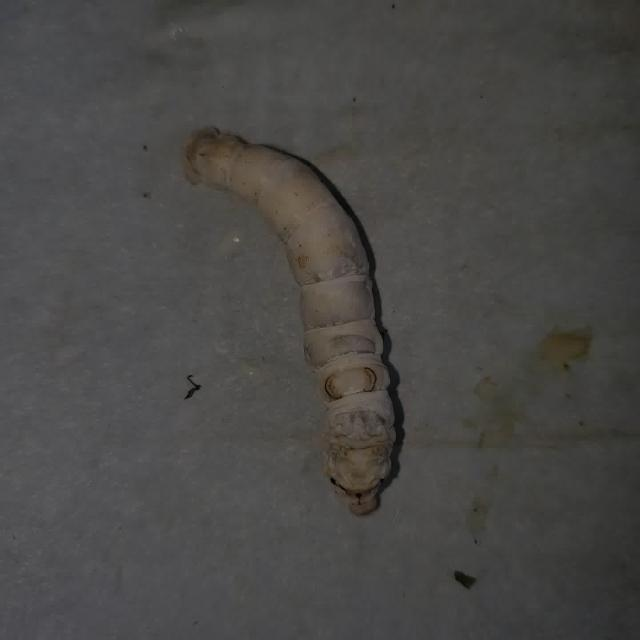Grasserie: (173, 107, 417, 521)
